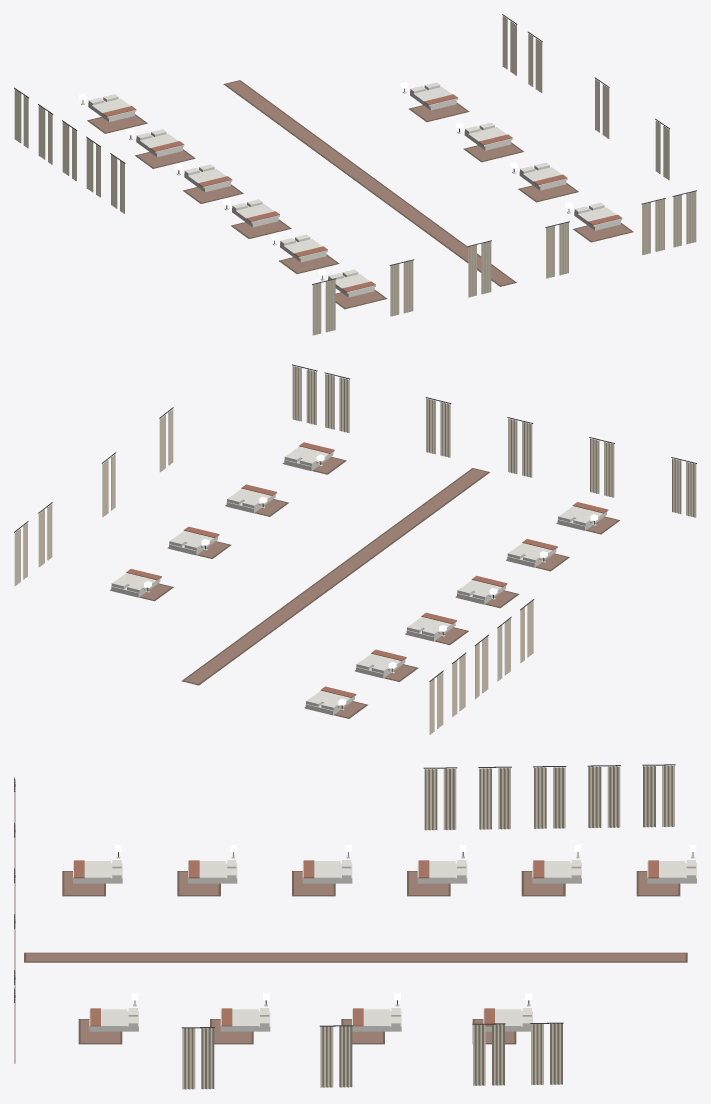
File: fine-s2.glb
3 views of the same model, one above another, from view 1: azimuth 30°, elevation 25°; view 2: azimuth 150°, elevation 25°; view 3: azimuth 270°, elevation 25° (orthographic). The views are drawn at different scales.
Visible parts, largest first — view 1: soft-s2; view 2: soft-s2; view 3: soft-s2.
Part boxes in pixels (left/top/right/bottom): soft-s2: left=14, top=14, right=696, bottom=335; soft-s2: left=14, top=364, right=696, bottom=734; soft-s2: left=14, top=764, right=696, bottom=1089.
Bounding box in the file's own units: 24.24 × 2.7 × 26.56.
